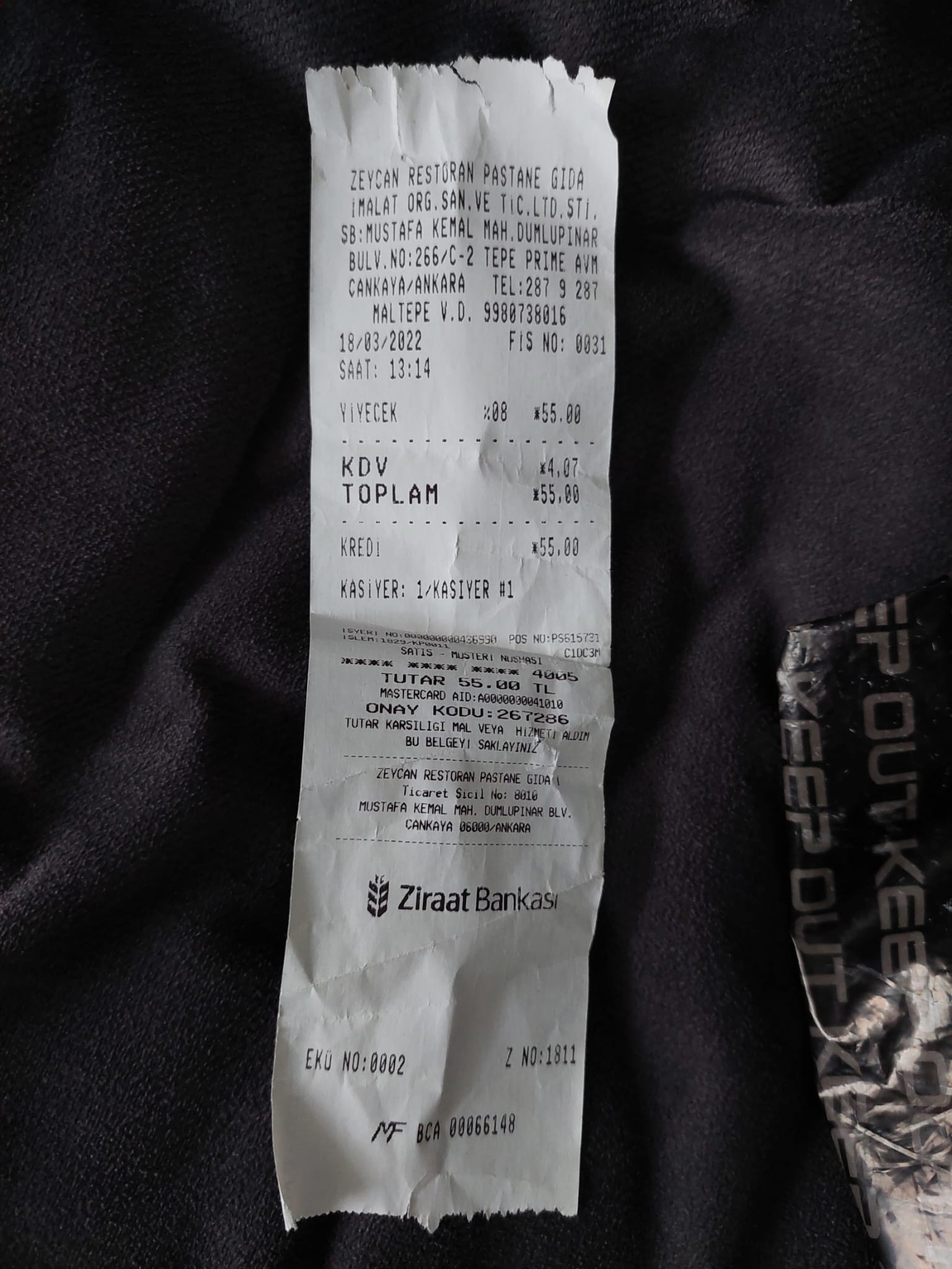date: (332, 326, 432, 356)
price: (535, 478, 589, 513)
workplace: (333, 161, 612, 277)
